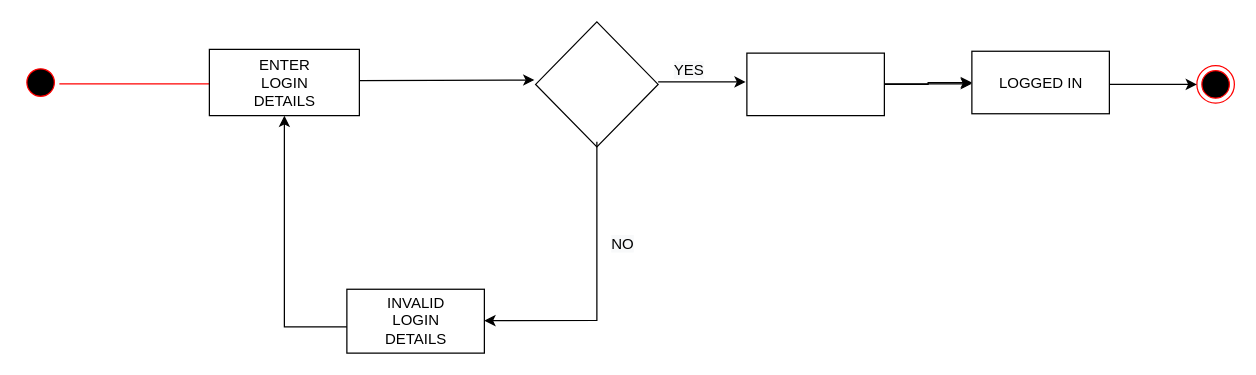
Some shapes in this 1256 by 375 pixel diagram are drawn without their labels. The box of each missing label's shape, as (x1, y1, x2, y2) in pixels:
LOGIN VERIFY DETAILS: (534, 21, 658, 147)
STORE LOGIN DETAILS: (746, 52, 884, 116)
